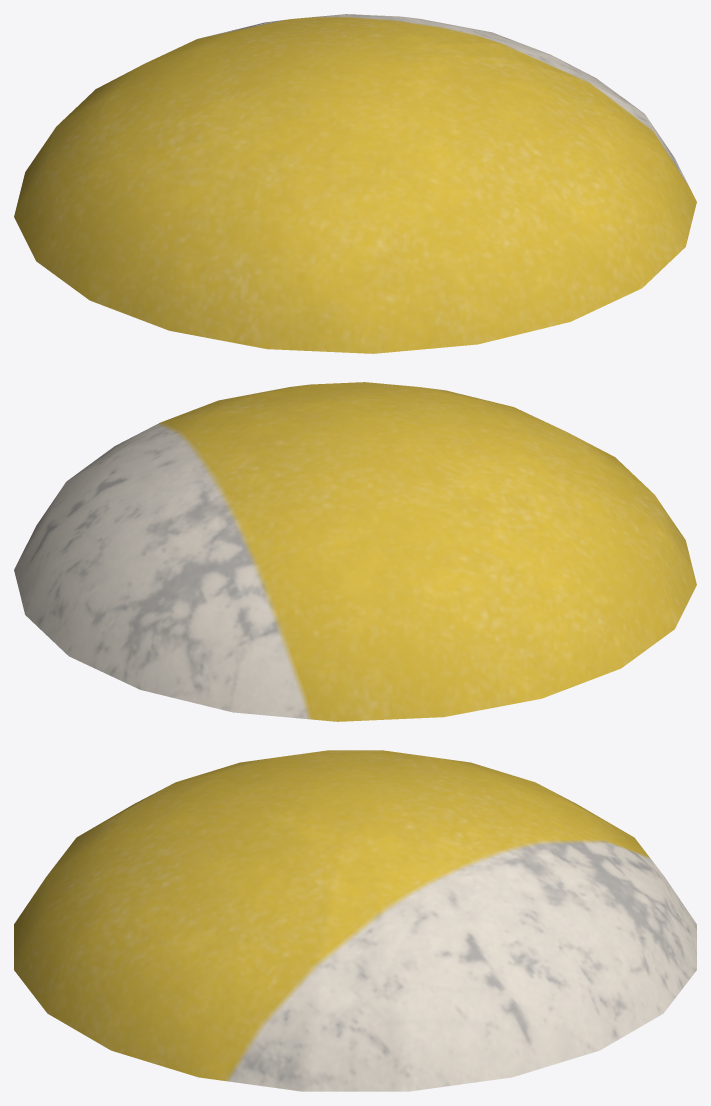
The model's file is Roof.fbx.
3 views of the same model, one above another, from view 1: azimuth 30°, elevation 25°; view 2: azimuth 150°, elevation 25°; view 3: azimuth 270°, elevation 25° (orthographic).
Parts seen in each view (by area): view 1: Roof; view 2: Roof; view 3: Roof.
Boxes of the visible parts, <box> form: Roof: <box>14,14,696,353</box>; Roof: <box>14,382,696,721</box>; Roof: <box>14,750,696,1091</box>.
Bounding box in the file's own units: 56.83 × 14.06 × 56.83.
